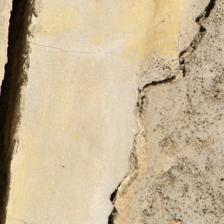Crack: (6, 33, 81, 224), (1, 90, 76, 135), (79, 55, 101, 166)
